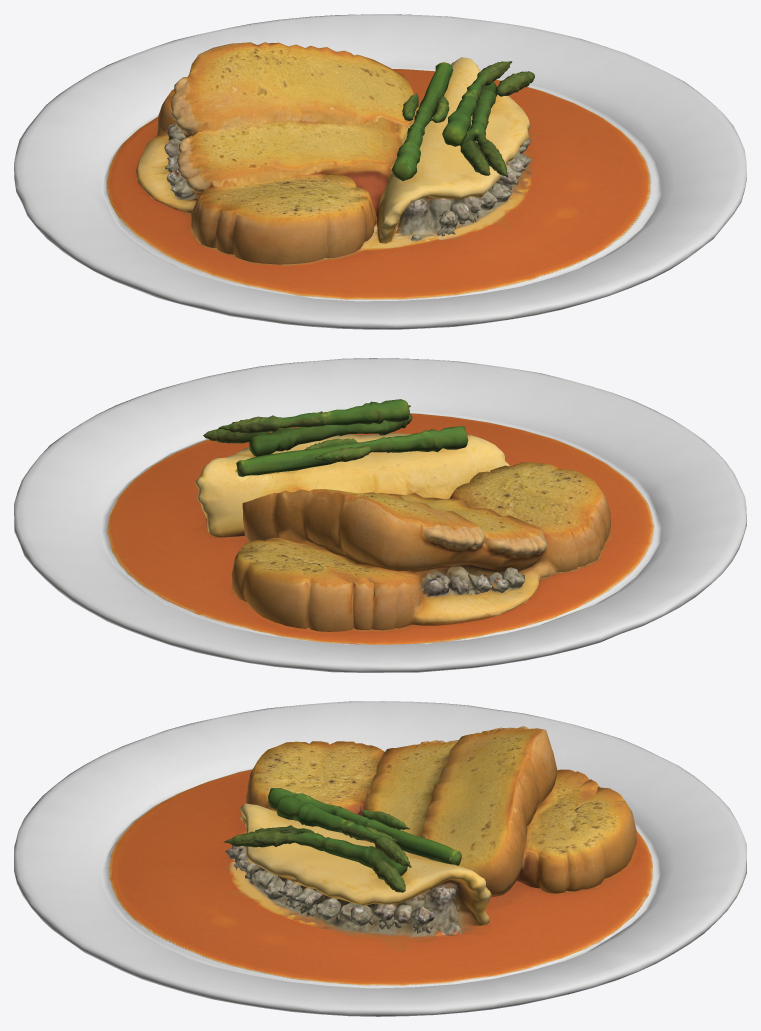
Rendered from omelette_di_asparagi.fbx.
3 views of the same model, one above another, from view 1: azimuth 30°, elevation 25°; view 2: azimuth 150°, elevation 25°; view 3: azimuth 270°, elevation 25° (orthographic).
Parts seen in each view (by area): view 1: meshes[0]; view 2: meshes[0]; view 3: meshes[0].
Boxes of the visible parts, box(x1,y1,x2,y2) form: meshes[0]: box(14, 14, 746, 329); meshes[0]: box(14, 358, 746, 672); meshes[0]: box(14, 701, 746, 1016).
Size of the model in its own units: 99.8 by 16.6 by 99.8.
1 material, 1 textured.
